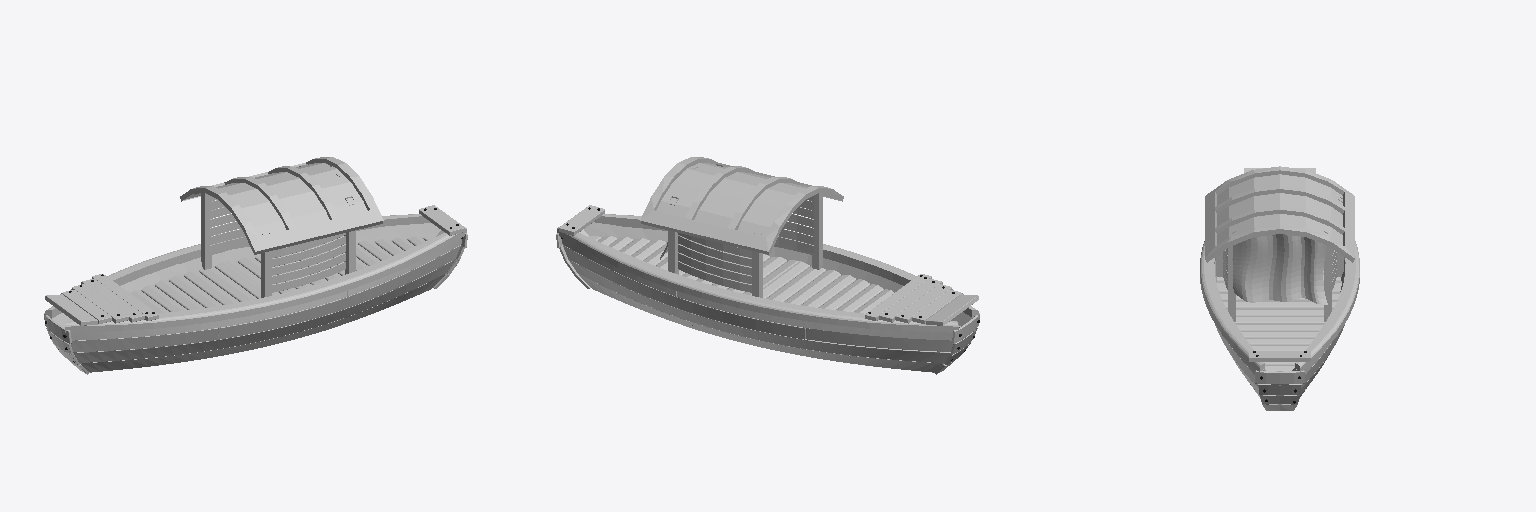
Rendered from boat01.obj.
3 renders of one model, left to right at view 1: azimuth 30°, elevation 25°; view 2: azimuth 150°, elevation 25°; view 3: azimuth 270°, elevation 25°, orthographic.
Visible parts, largest first — view 1: Object08; view 2: Object08; view 3: Object08.
Boxes of the visible parts, <box> form: Object08: <box>44,157,467,374</box>; Object08: <box>556,157,979,374</box>; Object08: <box>1200,166,1359,410</box>.
Size of the model in its own units: 4.18 by 1.4 by 1.44.